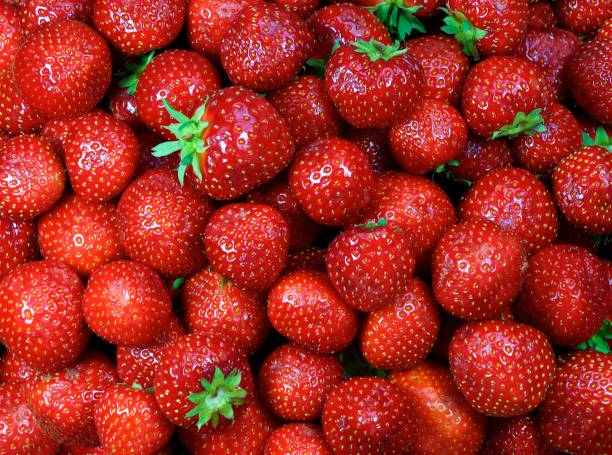Fresa: (189, 85, 299, 204), (113, 160, 220, 278), (444, 313, 556, 420), (150, 328, 256, 435), (1, 256, 95, 373), (459, 50, 562, 153), (326, 40, 430, 140), (425, 216, 523, 320), (365, 166, 462, 271), (520, 240, 612, 350), (18, 20, 114, 121), (264, 260, 364, 356), (464, 165, 560, 264), (322, 216, 417, 314), (203, 197, 294, 299), (288, 132, 378, 233), (80, 258, 175, 348), (223, 2, 317, 92), (135, 48, 223, 142), (321, 371, 418, 455), (389, 87, 473, 181), (254, 339, 345, 425), (63, 109, 142, 205), (543, 348, 612, 455), (1, 132, 69, 225), (91, 383, 178, 455), (404, 26, 471, 109), (440, 1, 542, 55), (557, 142, 612, 239)
